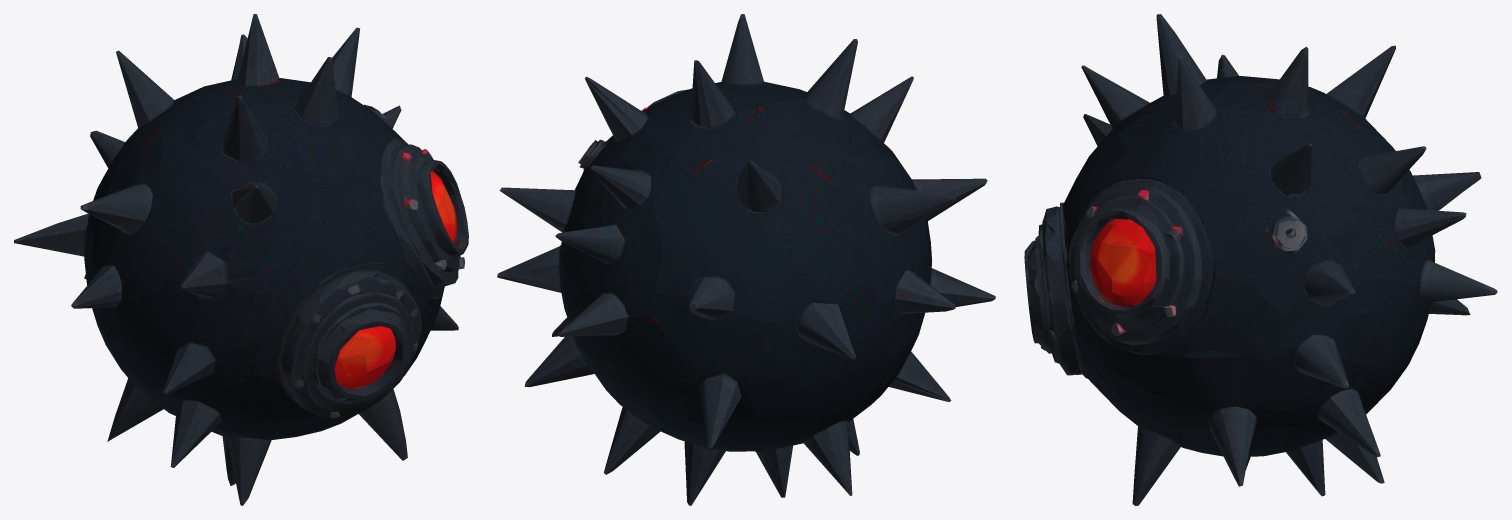
File: pod.glb
The picture shows the model from 3 angles, left to right: view 1: azimuth 30°, elevation 25°; view 2: azimuth 150°, elevation 25°; view 3: azimuth 270°, elevation 25°; orthographic projection. The views are drawn at different scales.
Size of the model in its own units: 1.79 by 1.9 by 1.78.
Materials: 1 (1 with a texture image).
